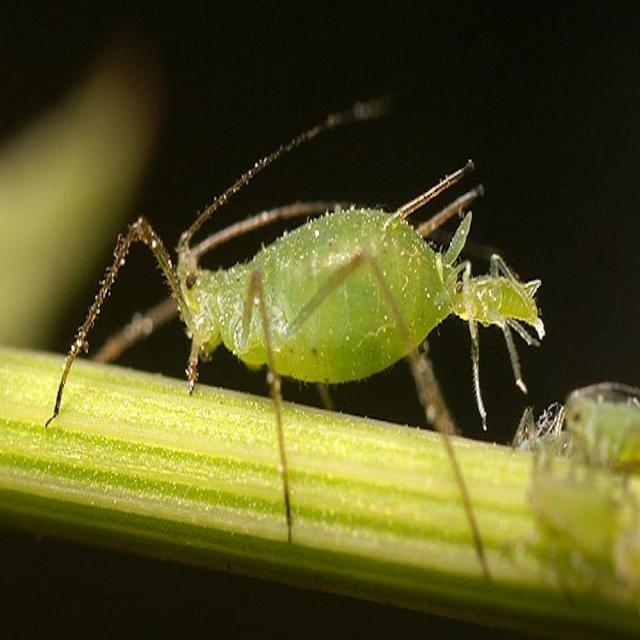Aphids: (76, 108, 572, 472)
